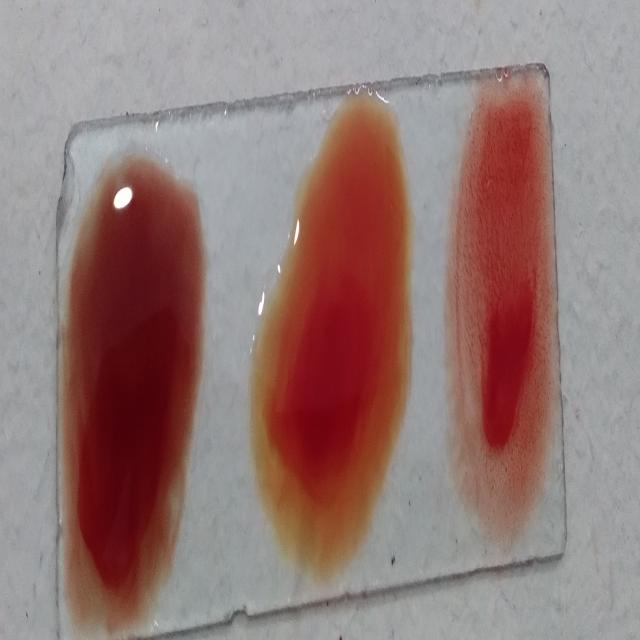D: (458, 90, 557, 525)
